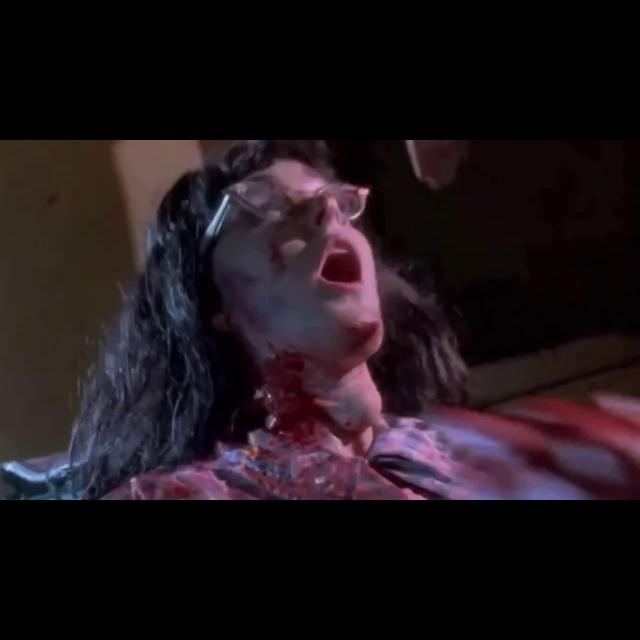blood: (106, 228, 420, 500), (423, 396, 640, 500), (268, 238, 306, 272)
